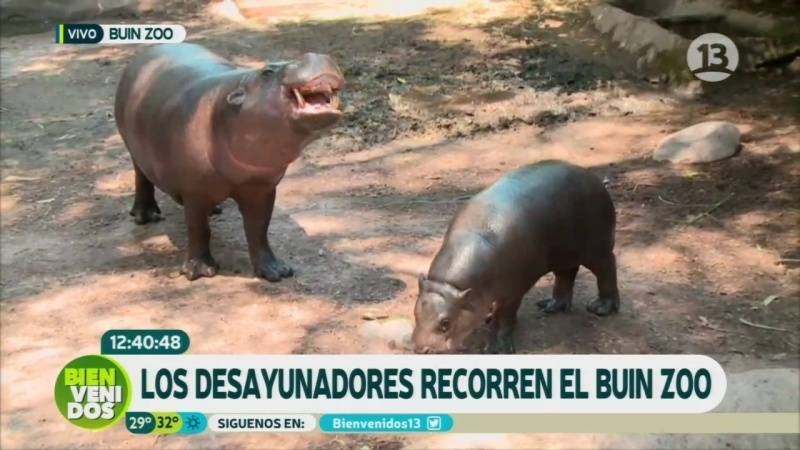hipopotamo: (109, 24, 360, 300), (391, 145, 629, 354)
